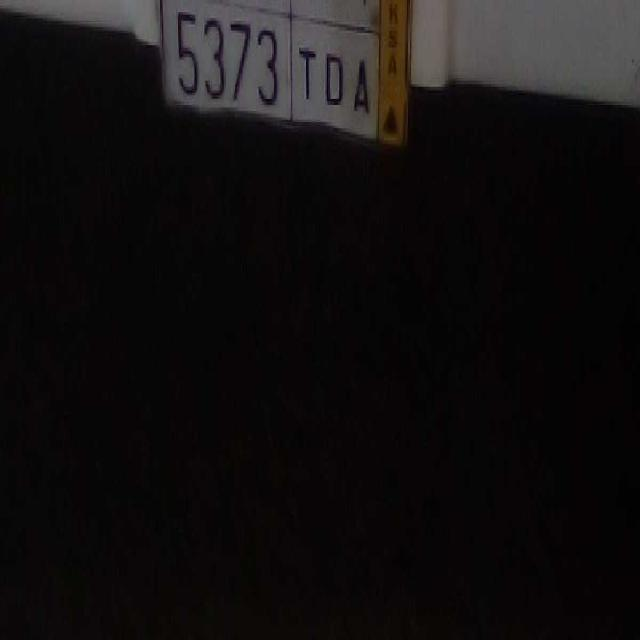license_plate: (164, 0, 376, 142)
